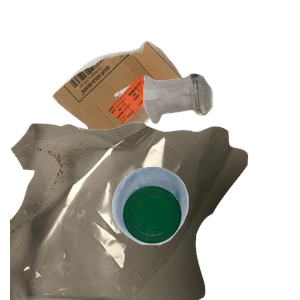cardboard: (50, 38, 233, 184)
glass: (141, 71, 300, 187)
plastic: (110, 164, 300, 300)
trash: (10, 120, 250, 300)
